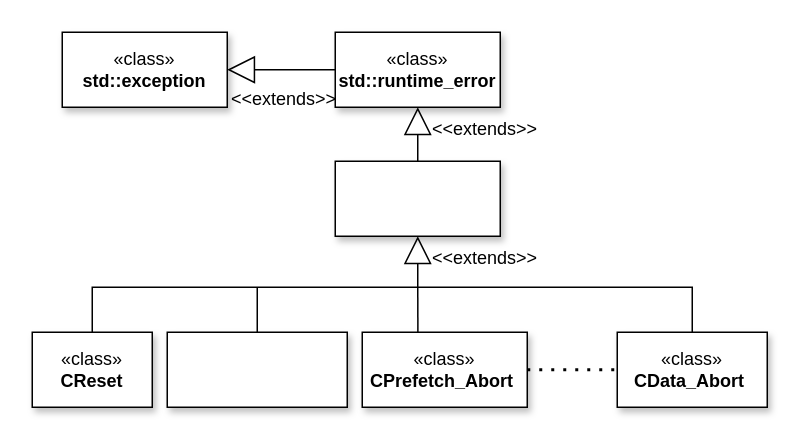
Some shapes in this 803 by 444 pixel diagram are drawn without their labels. Each missing label, with the centre of its shape:
"«class» CCPU_Exception" belongs at [418,200].
"«class» CSoftware_Interrupt" belongs at [258,371].
